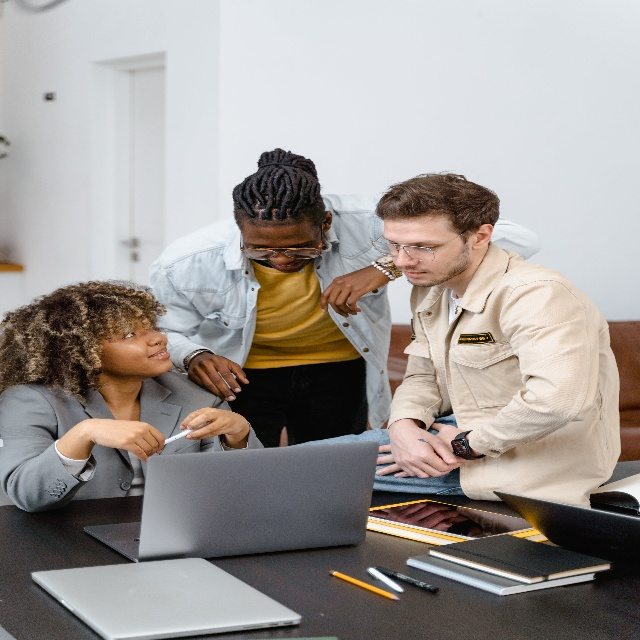Gafas: (371, 228, 467, 262), (240, 223, 322, 261)
Sin_guantes: (375, 419, 455, 479), (388, 419, 460, 478), (320, 263, 389, 318), (86, 418, 165, 462), (188, 352, 250, 402), (179, 407, 249, 442)
